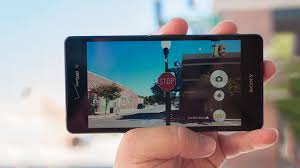sony: (59, 30, 270, 135)
